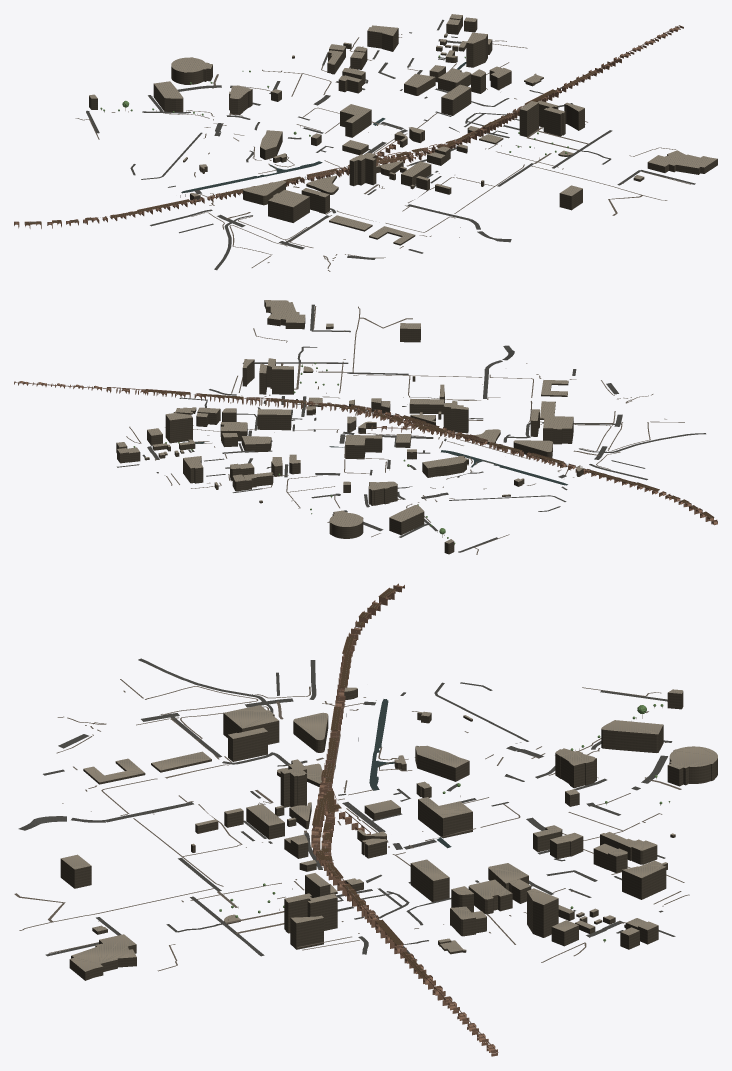
The model's file is sur_b.glb.
3 views of the same model, one above another, from view 1: azimuth 30°, elevation 25°; view 2: azimuth 150°, elevation 25°; view 3: azimuth 270°, elevation 25° (orthographic). The views are drawn at different scales.
Visible parts, largest first — view 1: bldg_26508327, bldg_114250136, bldg_570282715, bldg_647385657, bldg_702200294, bldg_683251147, bldg_30089216, bldg_639815338, bldg_114467021, bldg_927306137, bldg_431832634, bldg_796971150 (+9 smaller); view 2: bldg_26508327, bldg_570282715, bldg_114250136, bldg_702200294, bldg_927306137, bldg_30089216, bldg_114467021, bldg_100646665, bldg_647385657, bldg_100646629, bldg_796971150, bldg_431832634 (+6 smaller); view 3: bldg_26508327, bldg_30089216, bldg_570282715, bldg_702200294, bldg_683251147, bldg_114250136, bldg_639815338, bldg_100646665, bldg_100646629, bldg_927306137, bldg_114467021, bldg_647385657 (+7 smaller).
Part boxes in pixels (x1,y1,x2,y2): bldg_26508327: [647, 150, 717, 174]; bldg_114250136: [268, 189, 309, 222]; bldg_570282715: [171, 57, 212, 84]; bldg_647385657: [349, 152, 376, 186]; bldg_702200294: [340, 104, 371, 137]; bldg_683251147: [537, 100, 565, 136]; bldg_30089216: [153, 81, 183, 111]; bldg_639815338: [367, 25, 398, 51]; bldg_114467021: [441, 84, 471, 115]; bldg_927306137: [466, 32, 487, 67]; bldg_431832634: [243, 180, 285, 205]; bldg_796971150: [519, 101, 538, 136]; bldg_26508327: [264, 300, 305, 329]; bldg_570282715: [329, 510, 363, 538]; bldg_114250136: [543, 416, 573, 444]; bldg_702200294: [345, 435, 382, 459]; bldg_927306137: [165, 413, 192, 443]; bldg_30089216: [389, 505, 424, 535]; bldg_114467021: [257, 409, 291, 430]; bldg_100646665: [422, 457, 466, 477]; bldg_647385657: [443, 401, 468, 433]; bldg_100646629: [368, 481, 397, 505]; bldg_796971150: [272, 366, 293, 394]; bldg_431832634: [513, 440, 552, 458]; bldg_26508327: [69, 934, 136, 980]; bldg_30089216: [601, 720, 663, 752]; bldg_570282715: [667, 746, 717, 786]; bldg_702200294: [418, 797, 472, 838]; bldg_683251147: [284, 893, 337, 933]; bldg_114250136: [223, 705, 279, 744]; bldg_639815338: [622, 860, 666, 899]; bldg_100646665: [415, 745, 469, 781]; bldg_100646629: [555, 748, 596, 788]; bldg_927306137: [527, 888, 558, 937]; bldg_114467021: [410, 859, 449, 901]; bldg_647385657: [280, 759, 306, 807].
Bounding box in the file's own units: 1465 × 59.42 × 924.
Materials: 12 (6 with a texture image).
